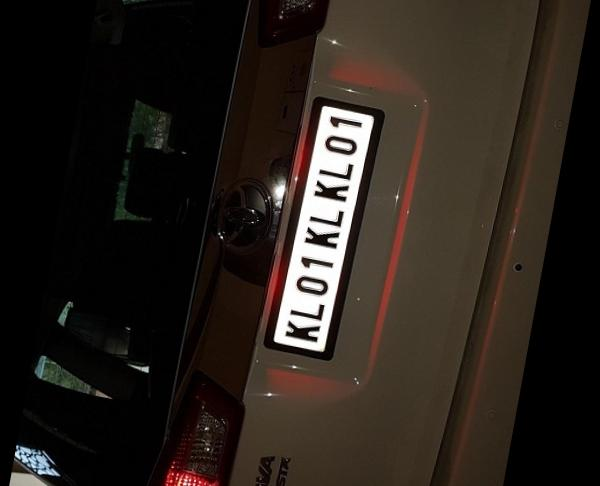plate: (255, 84, 403, 371)
